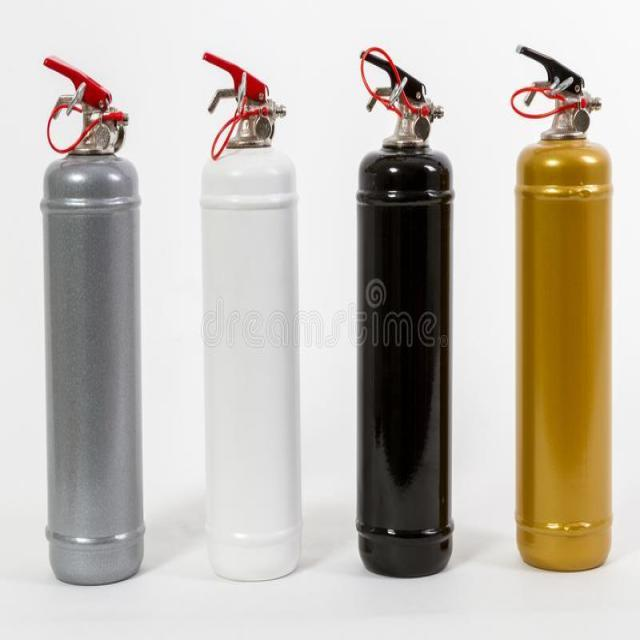fire_extinguisher: (32, 48, 153, 590), (504, 36, 620, 580), (194, 42, 310, 586), (346, 39, 459, 588)
